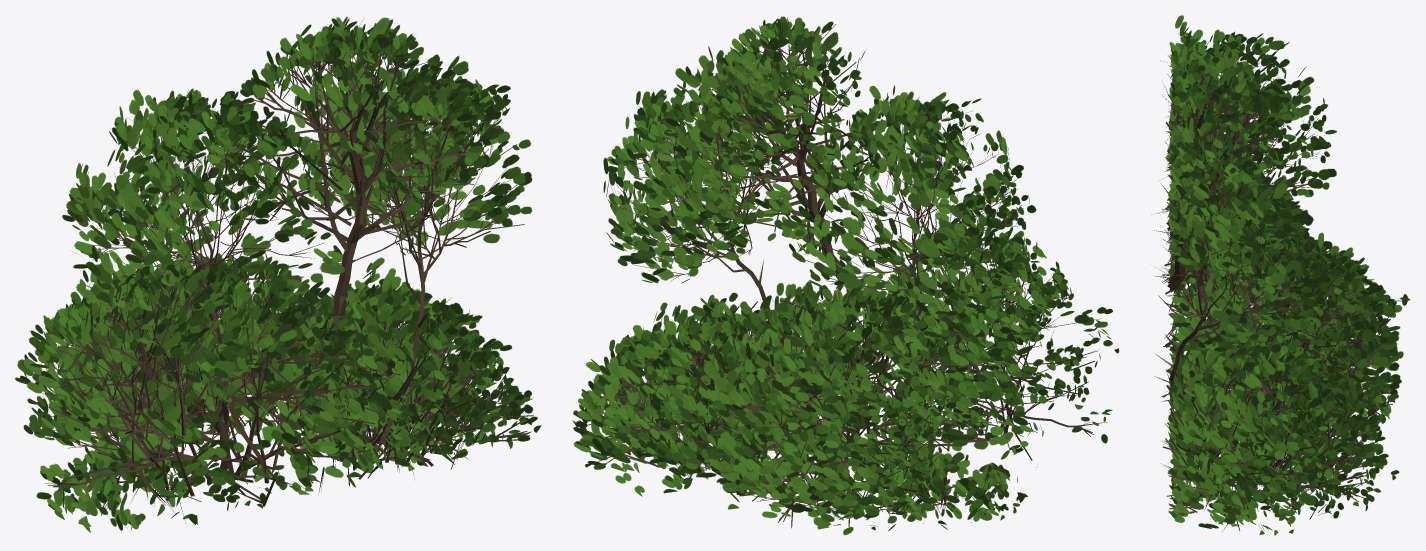
The picture shows the model from 3 angles, left to right: view 1: azimuth 30°, elevation 25°; view 2: azimuth 150°, elevation 25°; view 3: azimuth 270°, elevation 25°; orthographic projection. The views are drawn at different scales.
Visible parts, largest first — view 1: oak 01.001_trunk_Mat.001_0.406; view 2: oak 01.001_trunk_Mat.001_0.406; view 3: oak 01.001_trunk_Mat.001_0.406.
Part boxes in pixels (<box>): oak 01.001_trunk_Mat.001_0.406: <box>15,16,541,532</box>; oak 01.001_trunk_Mat.001_0.406: <box>572,16,1119,534</box>; oak 01.001_trunk_Mat.001_0.406: <box>1152,15,1409,535</box>.
Size of the model in its own units: 6.06 by 5.11 by 2.89.
Materials: 2 (1 with a texture image).
